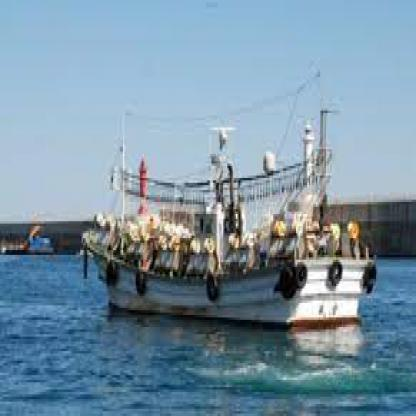fish-b: (76, 106, 389, 341)
